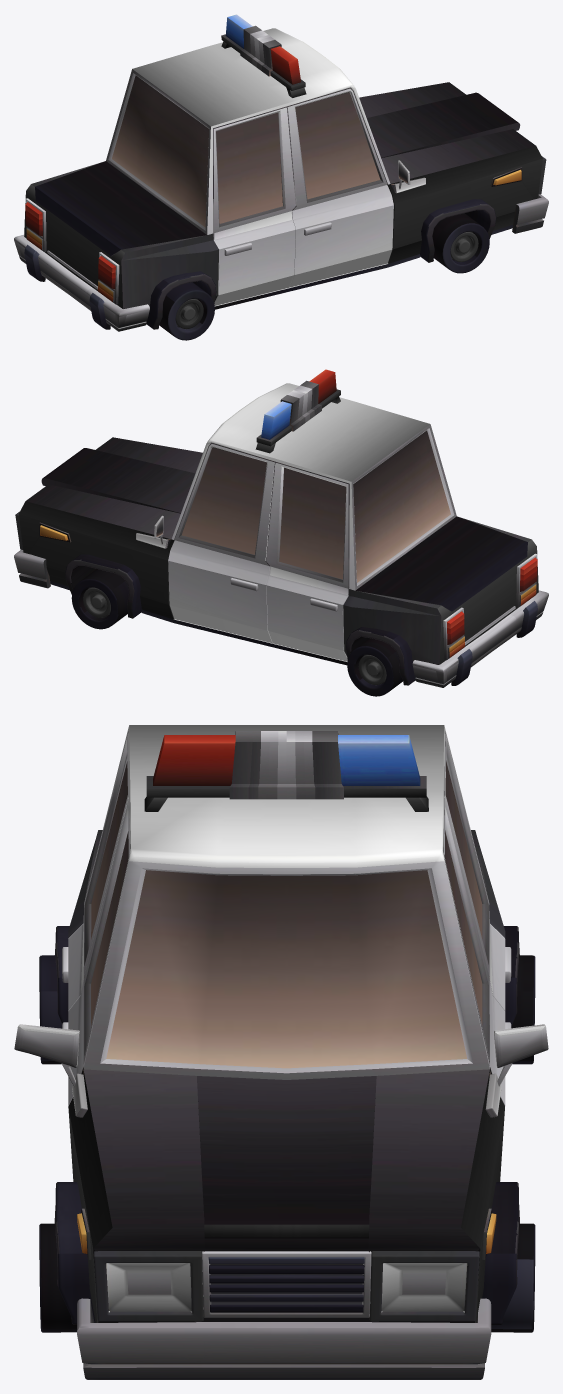
The model's file is CopCarFBLA.fbx.
The picture shows the model from 3 angles, top to bottom: view 1: azimuth 30°, elevation 25°; view 2: azimuth 150°, elevation 25°; view 3: azimuth 270°, elevation 25°; orthographic projection. The views are drawn at different scales.
Parts seen in each view (by area): view 1: Body, BackBumper, WheelThings, FrontRight, BackRight, TopDecor, Sirens, FrontBumper; view 2: Body, BackBumper, WheelThings, FrontLeft, BackLeft, TopDecor, Sirens, FrontBumper; view 3: Body, FrontBumper, TopDecor, WheelThings, Sirens, Plane.001, FrontLeft, FrontRight, BackLeft, BackRight.
Boxes of the visible parts, x1,y1,x2,y2 form: Body: [24, 28, 546, 309]; BackBumper: [14, 235, 149, 331]; WheelThings: [146, 199, 496, 329]; FrontRight: [432, 213, 489, 273]; BackRight: [159, 282, 214, 340]; TopDecor: [221, 25, 306, 97]; Sirens: [225, 14, 300, 84]; FrontBumper: [512, 194, 548, 233]; Body: [15, 383, 538, 665]; BackBumper: [412, 590, 548, 687]; WheelThings: [65, 554, 415, 685]; FrontLeft: [71, 569, 128, 629]; BackLeft: [347, 638, 402, 696]; TopDecor: [255, 380, 340, 453]; Sirens: [261, 369, 336, 439]; FrontBumper: [14, 549, 50, 588]; Body: [62, 725, 511, 1322]; FrontBumper: [77, 1298, 491, 1379]; TopDecor: [144, 731, 428, 811]; WheelThings: [54, 926, 519, 1324]; Sirens: [153, 735, 420, 785]; Plane.001: [14, 1024, 548, 1086]; FrontLeft: [491, 1223, 535, 1332]; FrontRight: [39, 1223, 76, 1332]; BackLeft: [511, 955, 535, 1064]; BackRight: [39, 955, 61, 1064].
Size of the model in its own units: 640 by 316 by 338.
